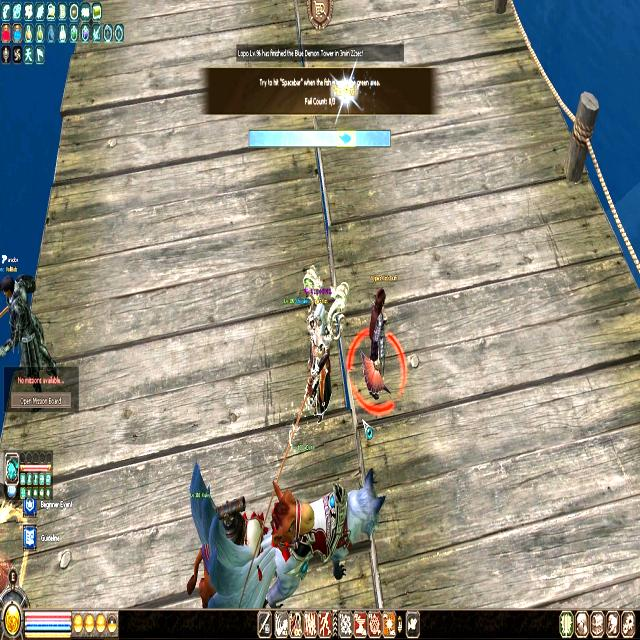fishes: (338, 131, 353, 146)
